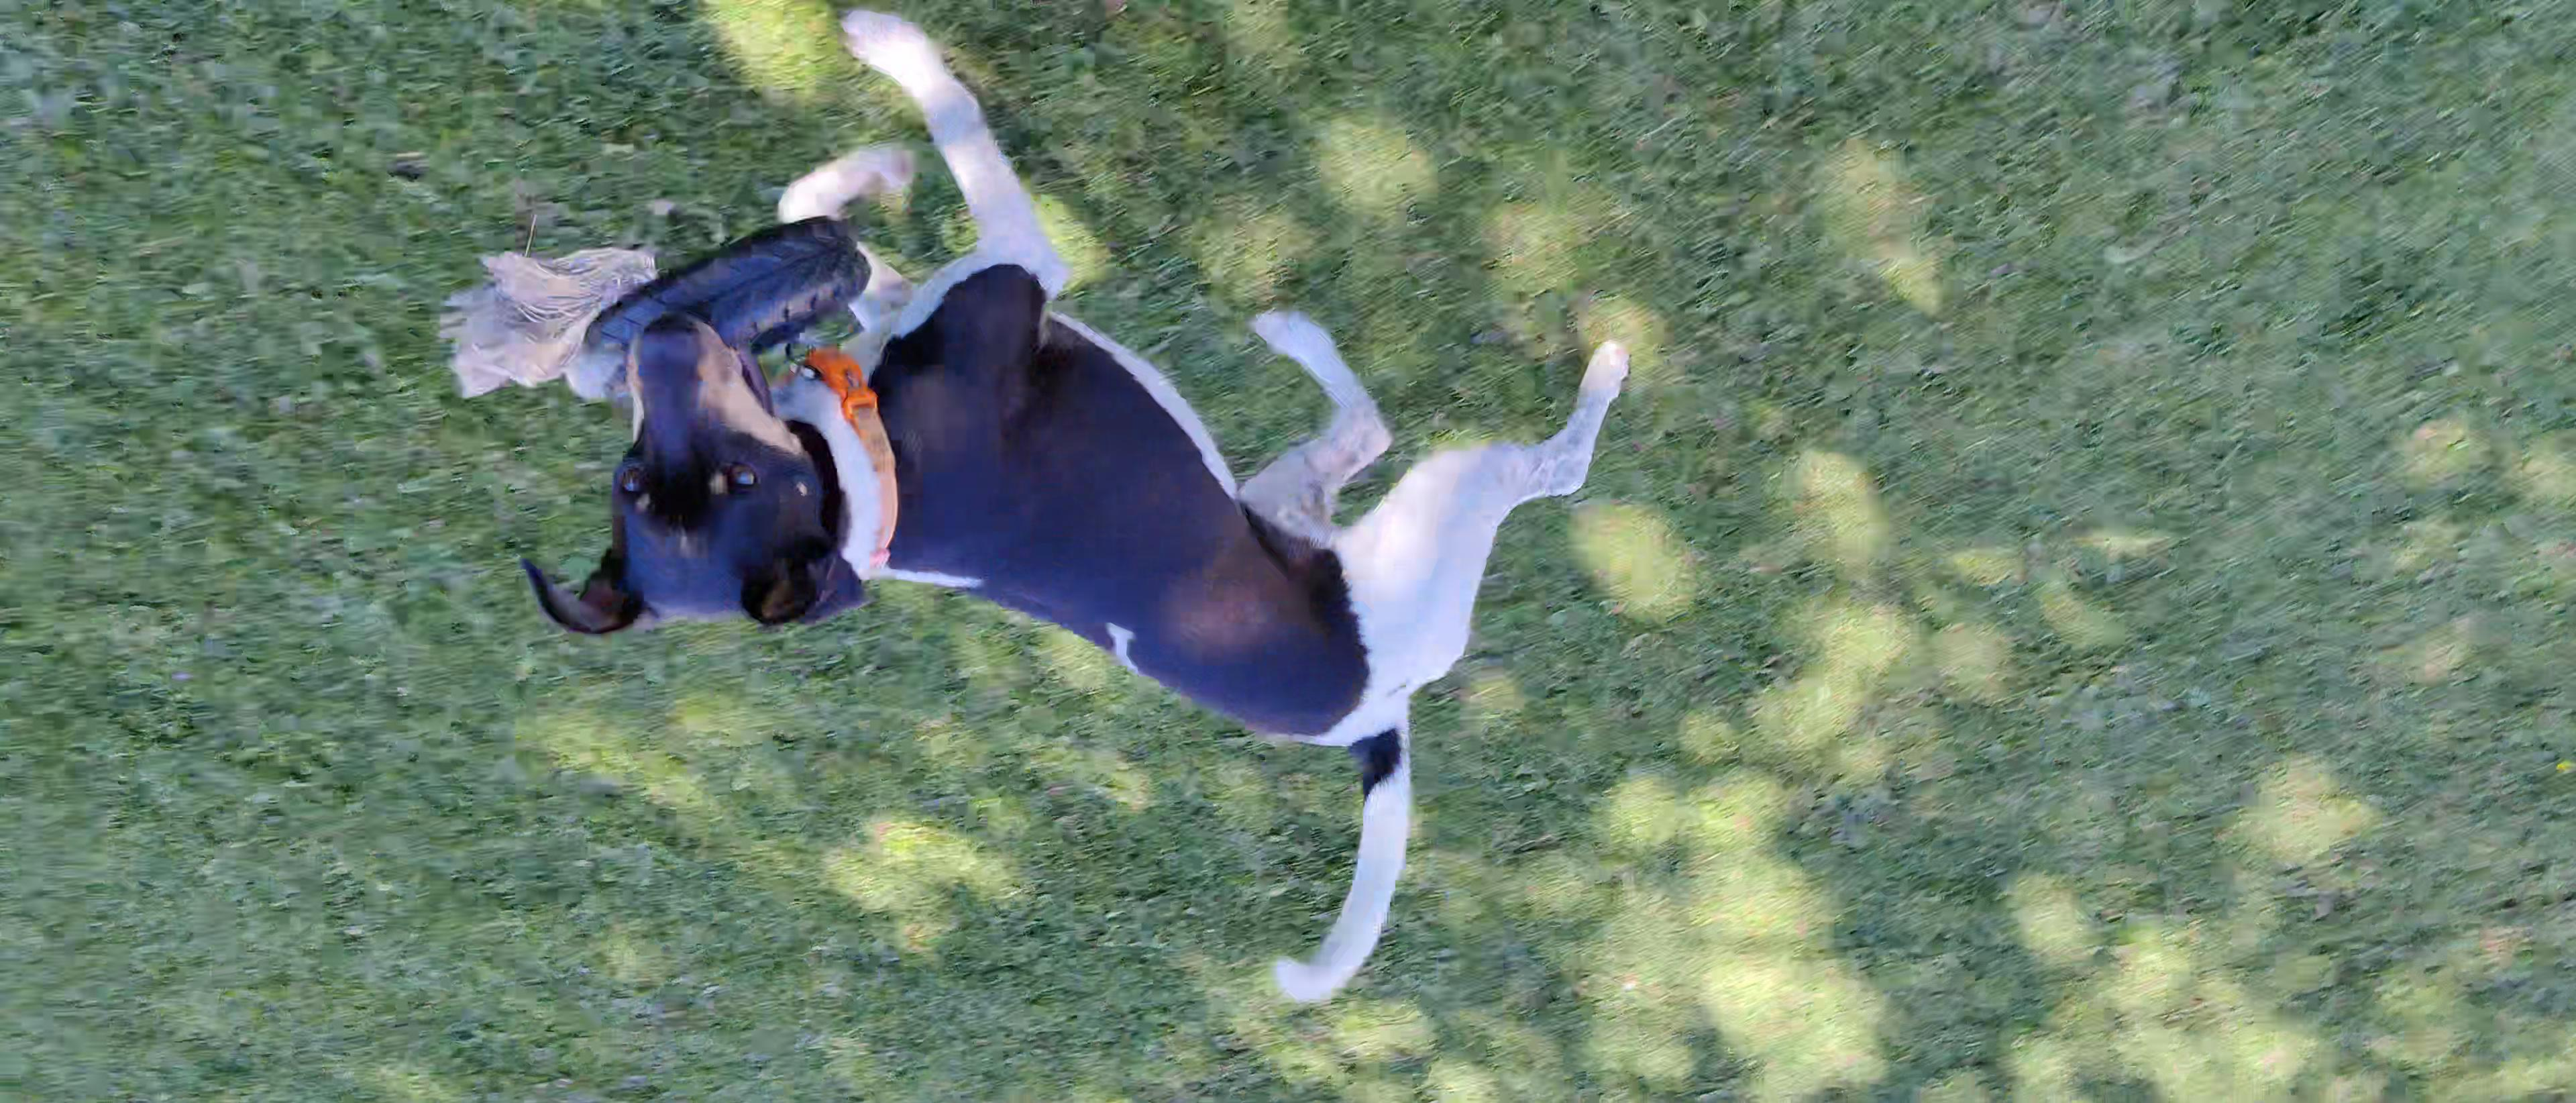Dog: (516, 8, 1644, 1016)
